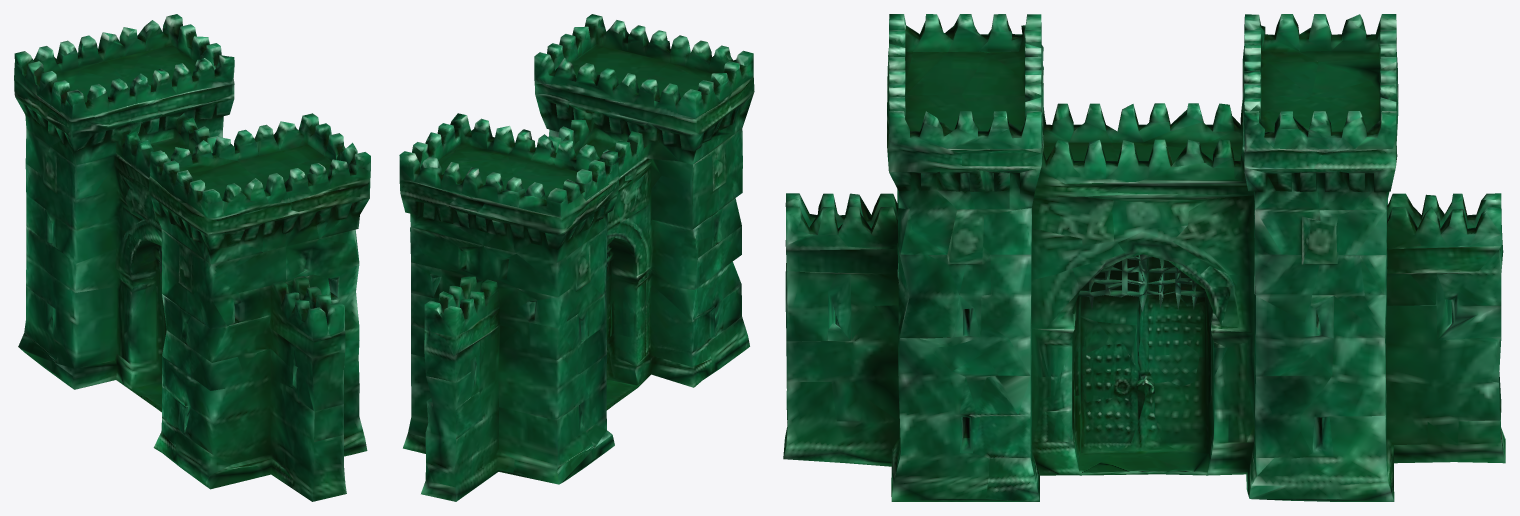
File: castle_gate_diamond_green.glb
3 views of the same model, side by side, from view 1: azimuth 30°, elevation 25°; view 2: azimuth 150°, elevation 25°; view 3: azimuth 270°, elevation 25° (orthographic). The views are drawn at different scales.
Parts seen in each view (by area): view 1: tripo_node_2871a792-3ea6-48de-9e57-7a4f3ec26cc0; view 2: tripo_node_2871a792-3ea6-48de-9e57-7a4f3ec26cc0; view 3: tripo_node_2871a792-3ea6-48de-9e57-7a4f3ec26cc0.
Boxes of the visible parts, x1,y1,x2,y2 form: tripo_node_2871a792-3ea6-48de-9e57-7a4f3ec26cc0: [14, 14, 370, 501]; tripo_node_2871a792-3ea6-48de-9e57-7a4f3ec26cc0: [399, 14, 754, 501]; tripo_node_2871a792-3ea6-48de-9e57-7a4f3ec26cc0: [783, 14, 1505, 501].
Bounding box in the file's own units: 0.3398 × 0.5782 × 0.9809.
1 material, 1 textured.
